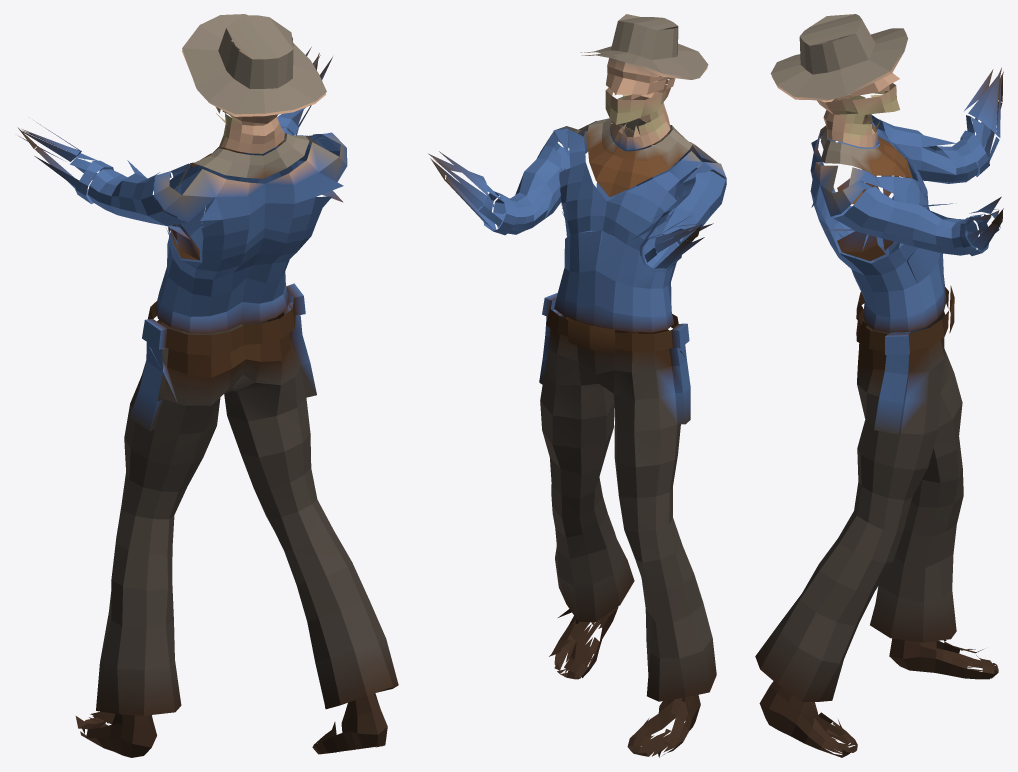
The model's file is man_2_pump.fbx.
3 views of the same model, side by side, from view 1: azimuth 30°, elevation 25°; view 2: azimuth 150°, elevation 25°; view 3: azimuth 270°, elevation 25° (orthographic). The views are drawn at different scales.
Parts seen in each view (by area): view 1: cowboy; view 2: cowboy; view 3: cowboy.
Part boxes in pixels (x1=…): cowboy: x1=17, y1=14, x2=398, y2=757; cowboy: x1=428, y1=14, x2=726, y2=757; cowboy: x1=755, y1=14, x2=1003, y2=757.
Size of the model in its own units: 0.4507 by 1.01 by 0.3271.
